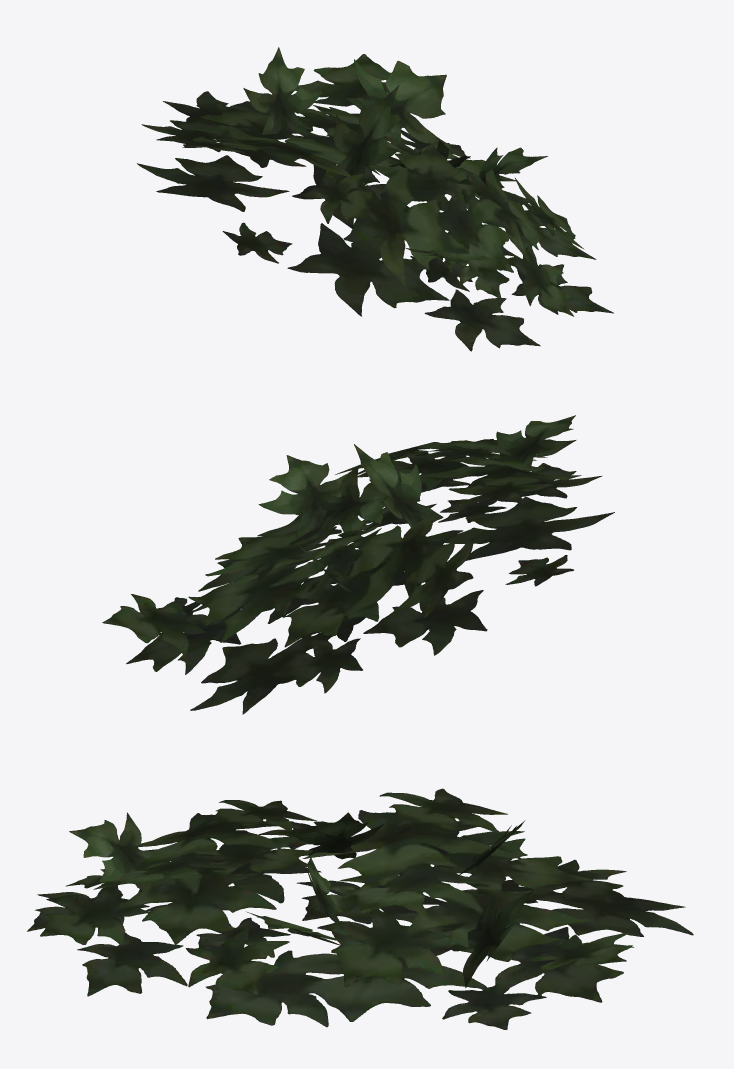
3 views of the same model, one above another, from view 1: azimuth 30°, elevation 25°; view 2: azimuth 150°, elevation 25°; view 3: azimuth 270°, elevation 25° (orthographic). The views are drawn at different scales.
Visible parts, largest first — view 1: body0_model0_lod0_mesh0; view 2: body0_model0_lod0_mesh0; view 3: body0_model0_lod0_mesh0.
Part boxes in pixels (x1,y1,x2,y2): body0_model0_lod0_mesh0: (137, 47, 613, 351); body0_model0_lod0_mesh0: (102, 415, 614, 714); body0_model0_lod0_mesh0: (27, 788, 693, 1029).
Bounding box in the file's own units: 77.3 × 37.32 × 131.
1 material, 1 textured.
